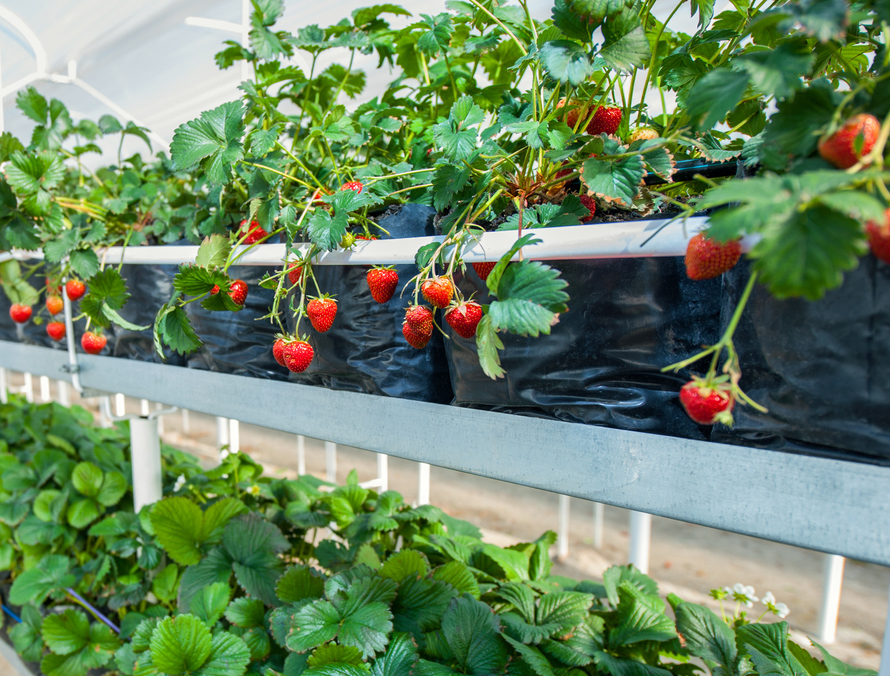ripe_strawberry: (817, 112, 882, 173), (678, 378, 740, 428), (685, 231, 742, 283), (861, 207, 890, 270), (445, 301, 485, 341), (585, 101, 624, 139), (365, 266, 401, 306), (283, 338, 317, 376), (306, 297, 340, 334), (209, 279, 251, 308), (555, 95, 589, 129), (422, 276, 455, 308), (406, 305, 435, 340), (238, 219, 272, 244), (402, 322, 429, 352), (272, 335, 294, 368), (81, 330, 108, 356), (471, 261, 502, 283), (8, 300, 34, 324), (65, 278, 88, 301), (45, 293, 66, 317), (47, 320, 67, 343), (341, 180, 365, 195), (288, 264, 305, 285)
unripe_strawberry: (628, 127, 660, 146)
